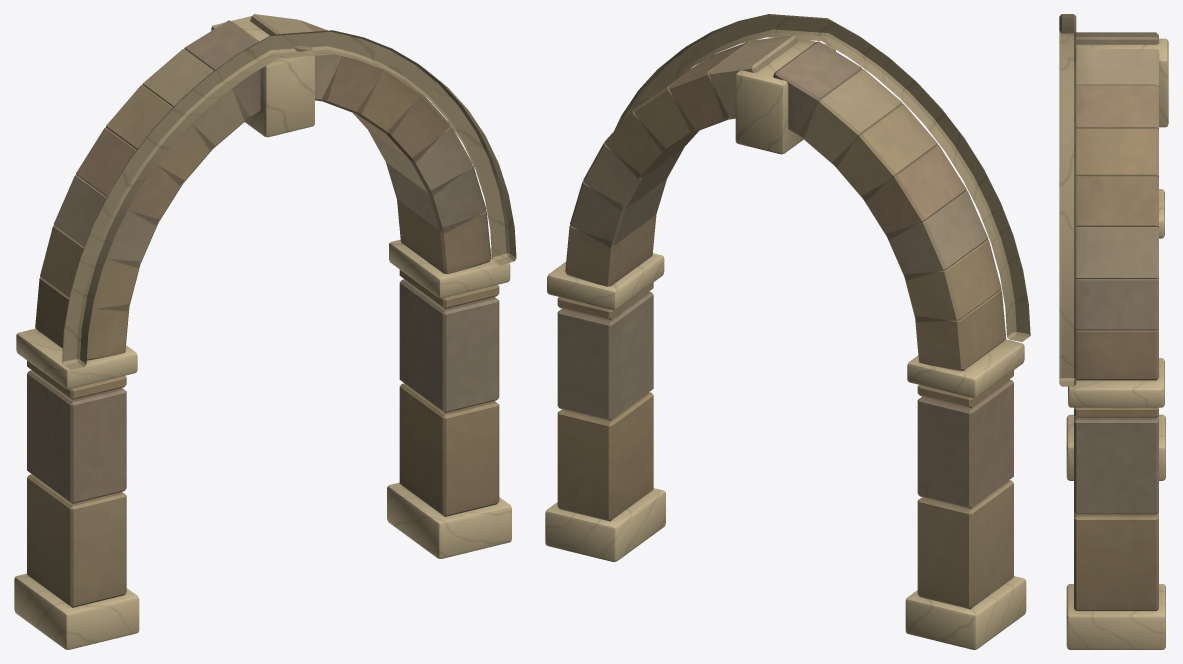
File: arch_door.glb
3 renders of one model, left to right at view 1: azimuth 30°, elevation 25°; view 2: azimuth 150°, elevation 25°; view 3: azimuth 270°, elevation 25°, orthographic. The views are drawn at different scales.
Parts seen in each view (by area): view 1: arch_door; view 2: arch_door; view 3: arch_door.
Part boxes in pixels (x1,y1,x2,y2): arch_door: (14, 14, 516, 649); arch_door: (545, 14, 1030, 649); arch_door: (1059, 14, 1168, 649).
Bounding box in the file's own units: 3.97 × 4.77 × 0.9.
Materials: 1 (1 with a texture image).
